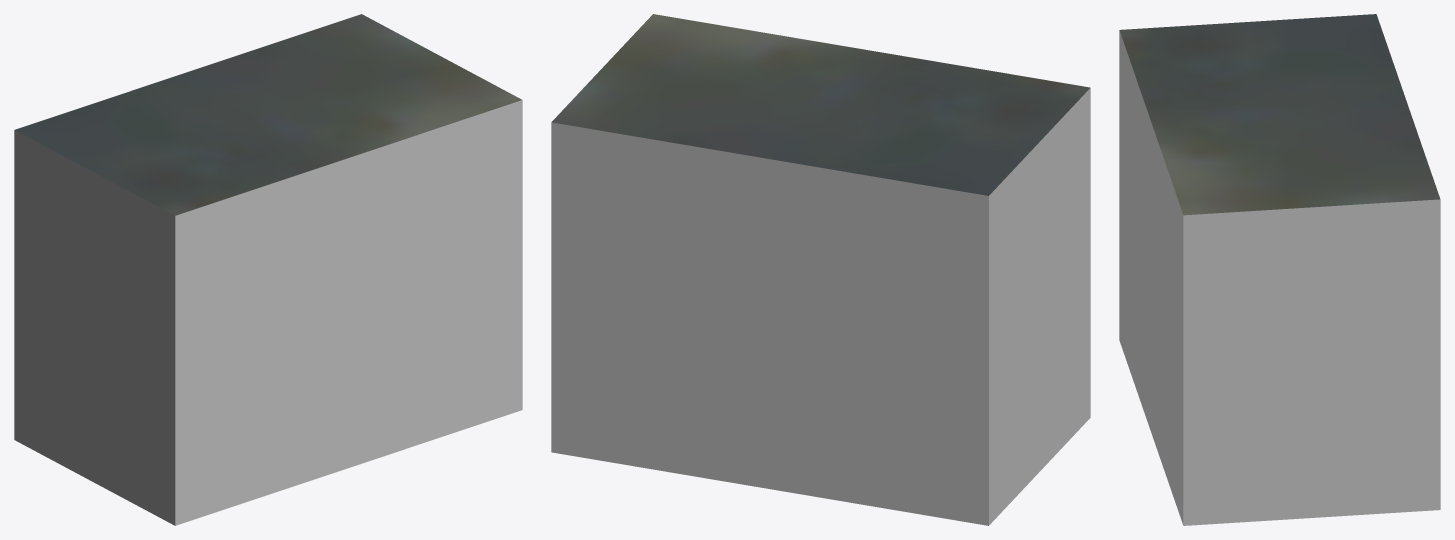
File: DEBW_0010007TxeO.gltf
3 views of the same model, side by side, from view 1: azimuth 30°, elevation 25°; view 2: azimuth 150°, elevation 25°; view 3: azimuth 270°, elevation 25° (orthographic). The views are drawn at different scales.
Parts seen in each view (by area): view 1: Z_UP; view 2: Z_UP; view 3: Z_UP.
Part boxes in pixels (box(x1,y1,x2,y2)): Z_UP: box(14, 14, 522, 525); Z_UP: box(551, 14, 1090, 525); Z_UP: box(1119, 14, 1440, 525).
Size of the model in its own units: 4.17 by 3 by 2.81.
Materials: 2 (1 with a texture image).
